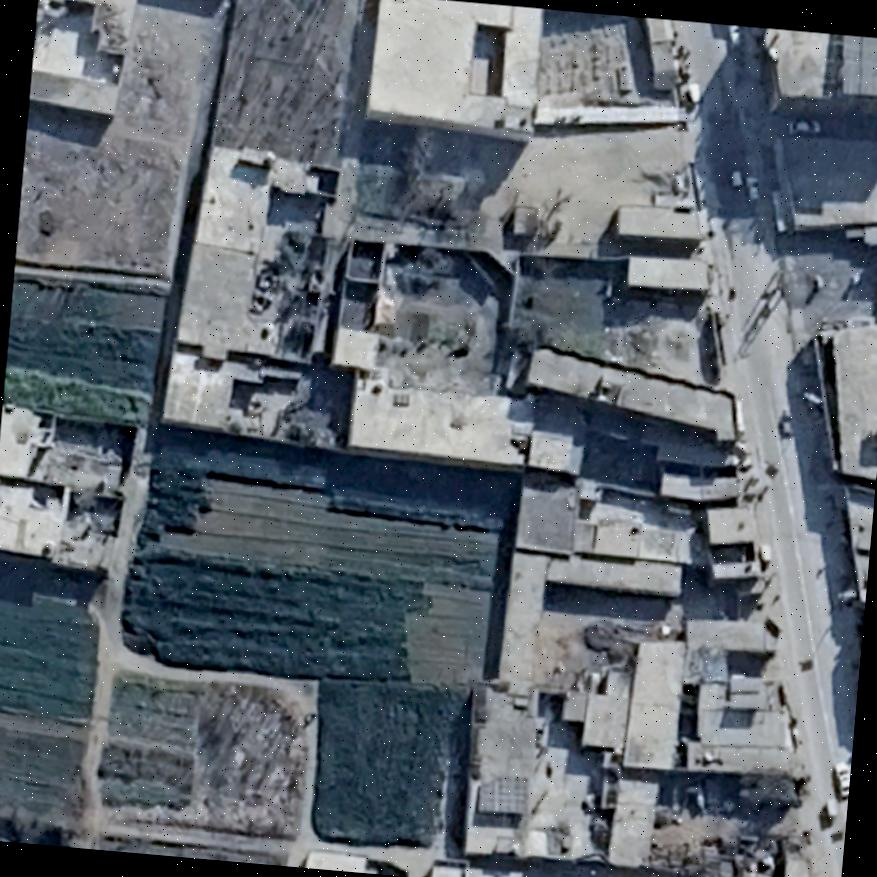Solarpanel: (475, 772, 530, 818)
